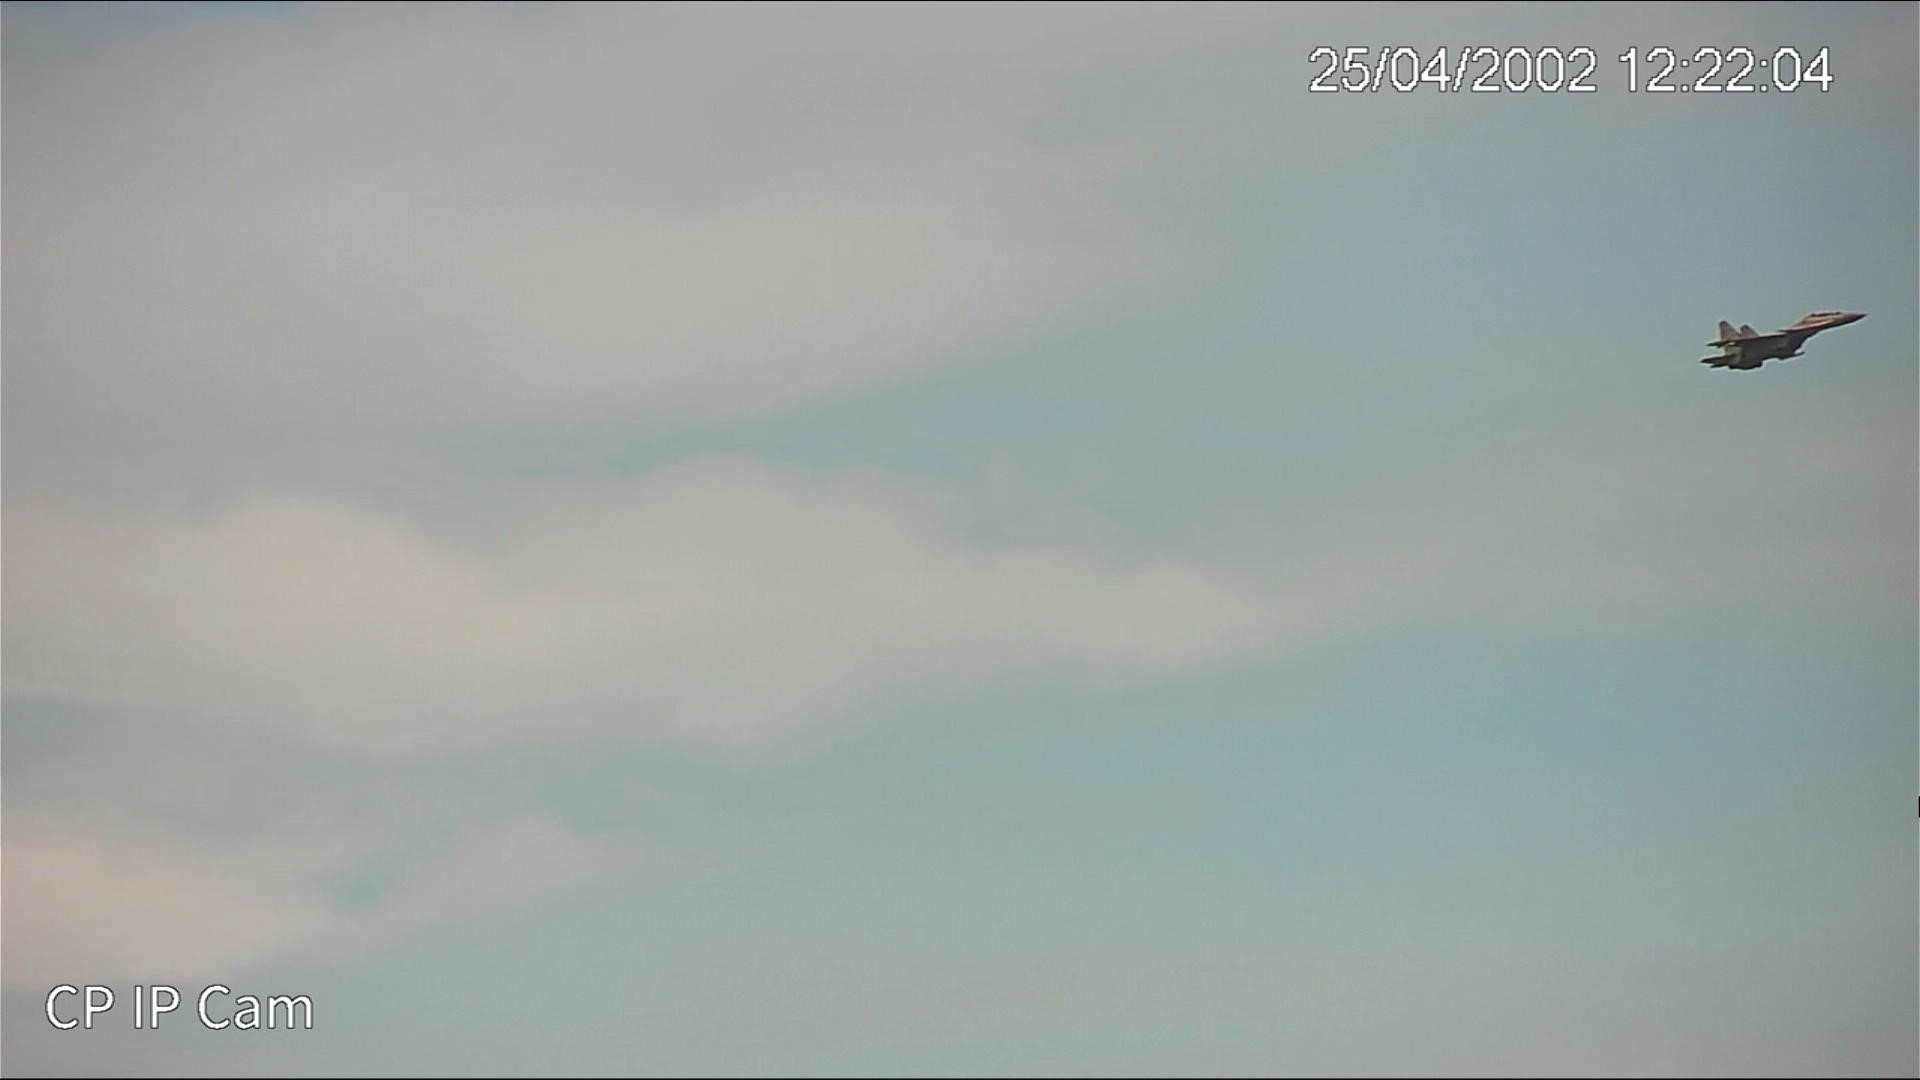SU_30: (1702, 305, 1874, 371)
